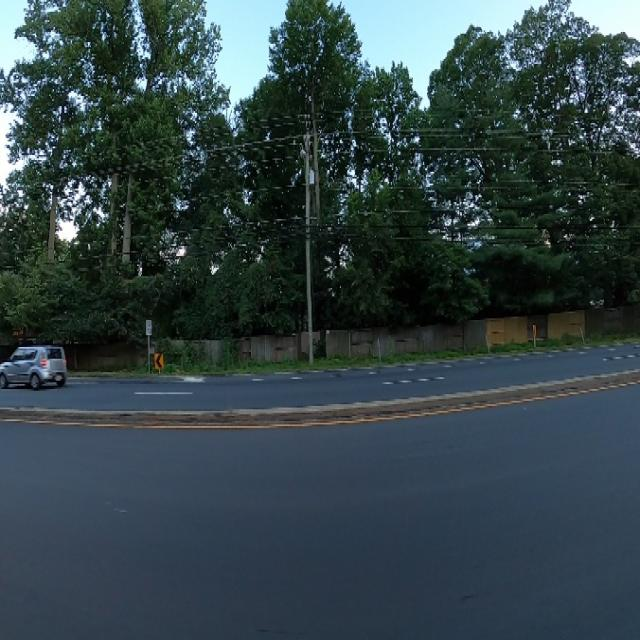car: (0, 335, 70, 396)
